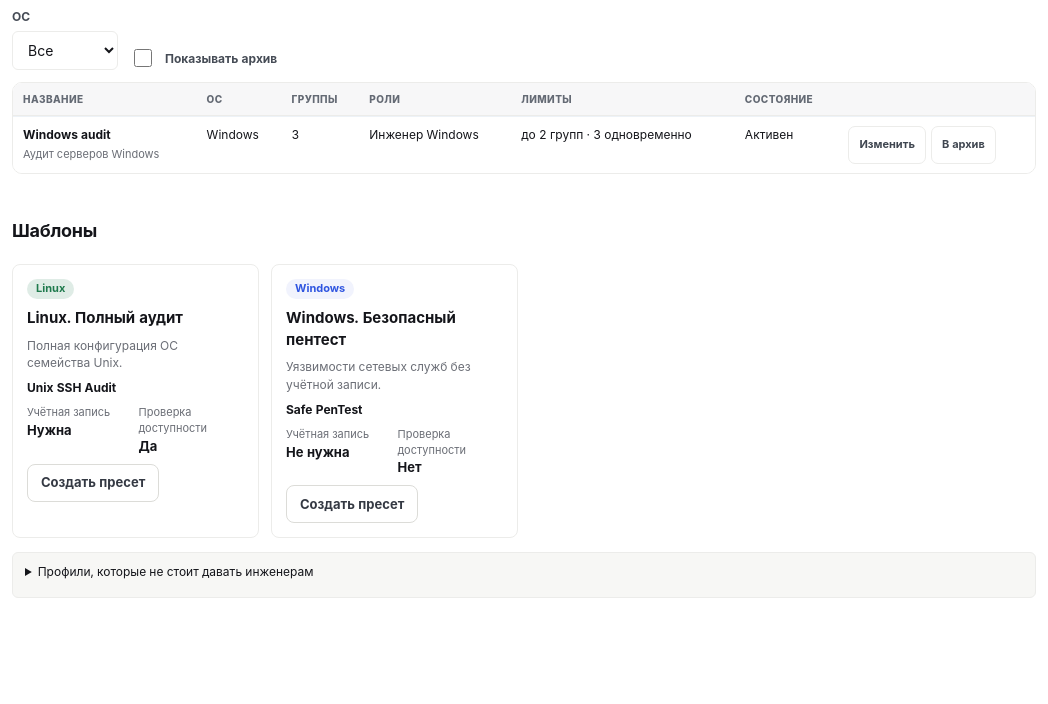
Test: preset administration › fills the editor from a recommended template
Expected: the heading "Linux. Полный аудит" is shown, [27,308,183,327]
Expected: the text "Проверка доступности" below "Unix SSH Audit" is shown, [138,405,207,435]
Select "Linux" in the dropdown labelled "ОС" at (65, 51), box [12,31,118,70]
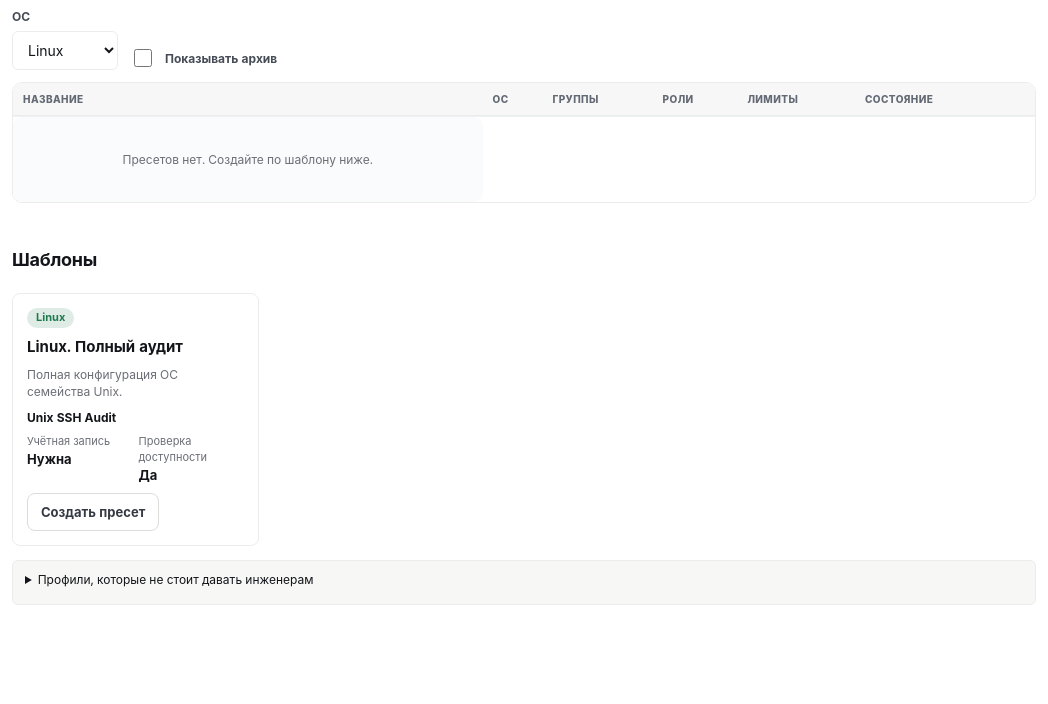
Result: the heading "Windows. Безопасный пентест" is gone
Click the button with aria-label "Создать пресет по шаблону «Linux. Полный аудит»" at (93, 512), box [27,493,159,531]
(page scrolled)
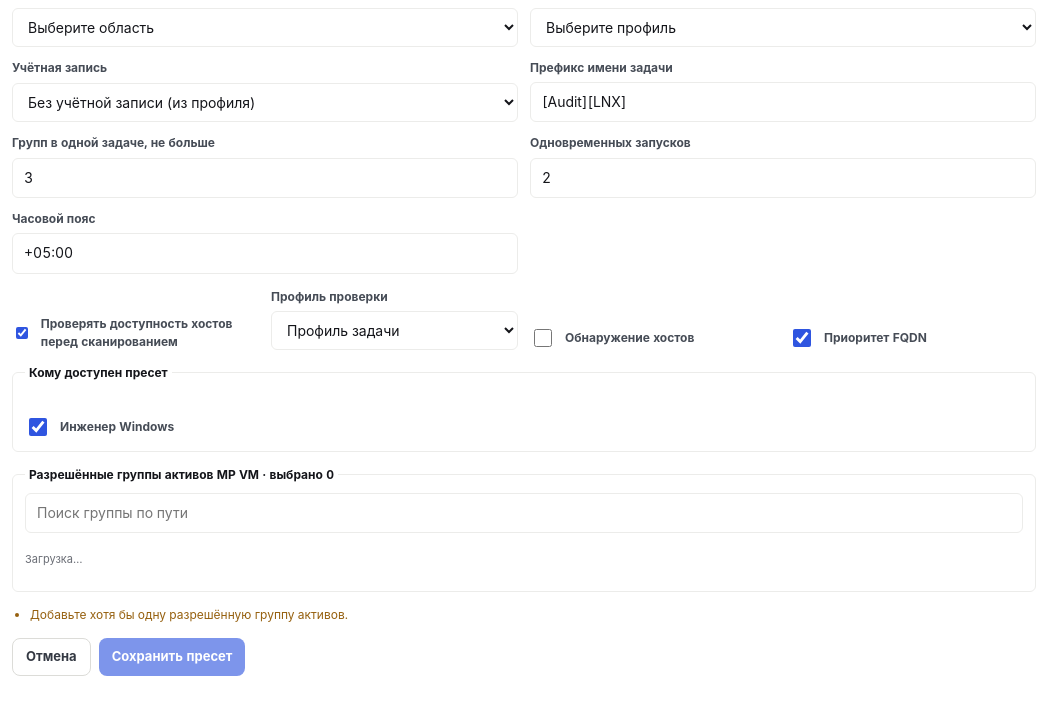
Expected: the button "по шаблону" is not shown
Result: the field showing "[Audit][LNX]" is shown at [530,82,1036,122]
Result: the checkbox labelled "Проверять доступность хостов перед сканированием" is checked at [16,324,28,342]
Click the button "Отмена" at (51, 657), box [12,638,91,676]
(page scrolled)
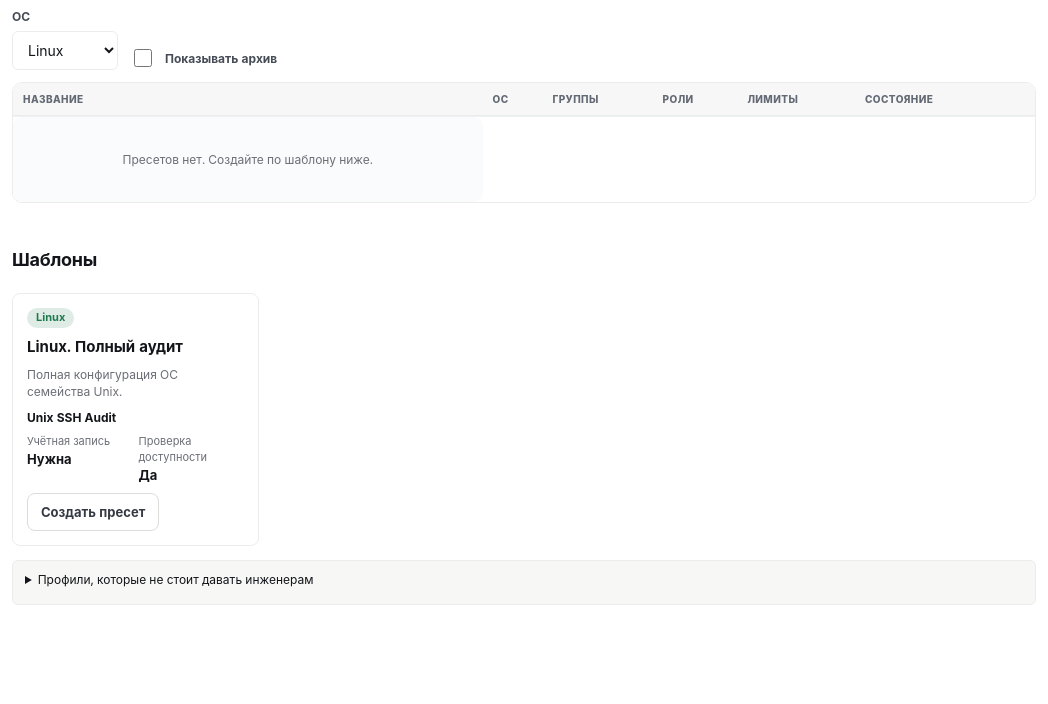
Select "Все" in the dropdown labelled "ОС" at (65, 51), box [12,31,118,70]
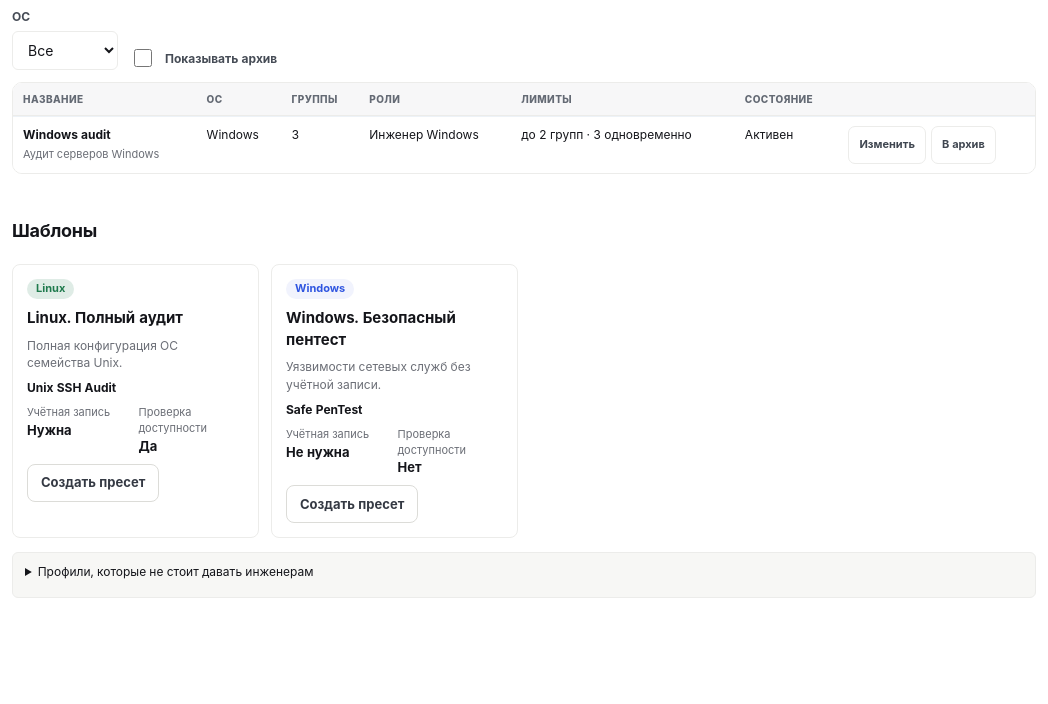
Click the button with aria-label "Создать пресет по шаблону «Windows. Безопасный пентест»" at (352, 504), box [286,485,418,523]
(page scrolled)
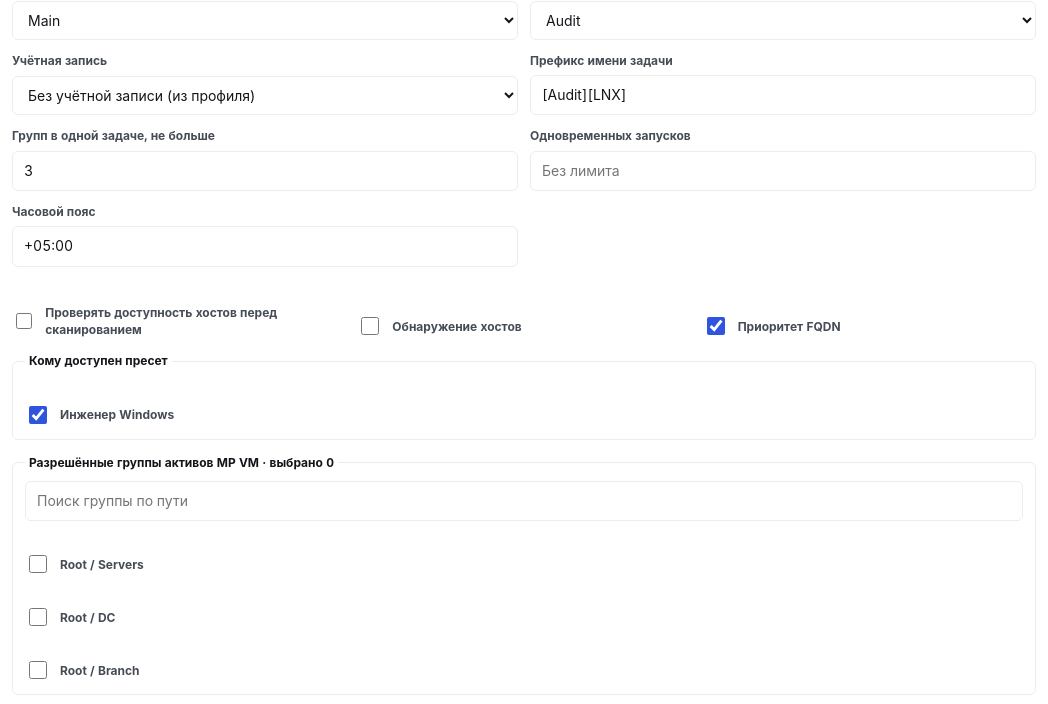
Result: the checkbox labelled "Проверять доступность хостов перед сканированием" is not checked at [16,312,32,330]
